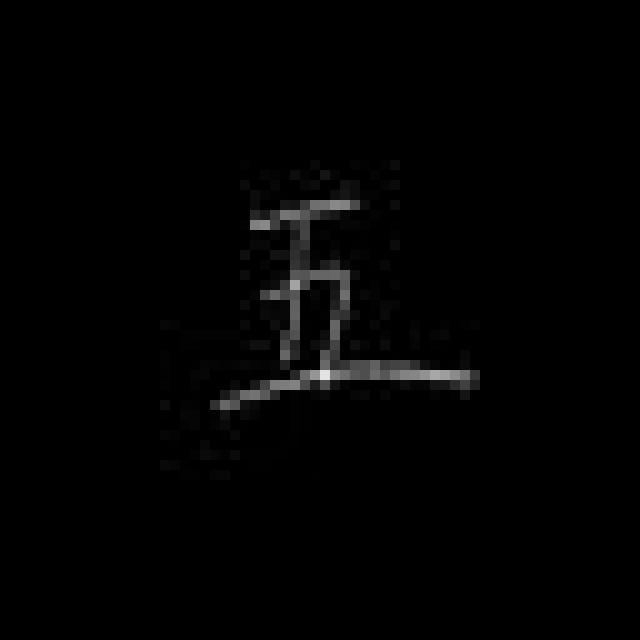5 -five-: (196, 180, 478, 417)
